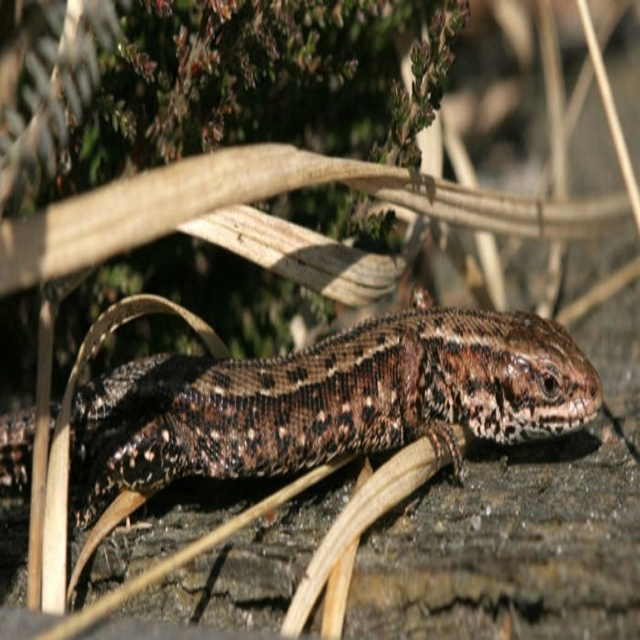Lizard: (30, 287, 615, 602)
